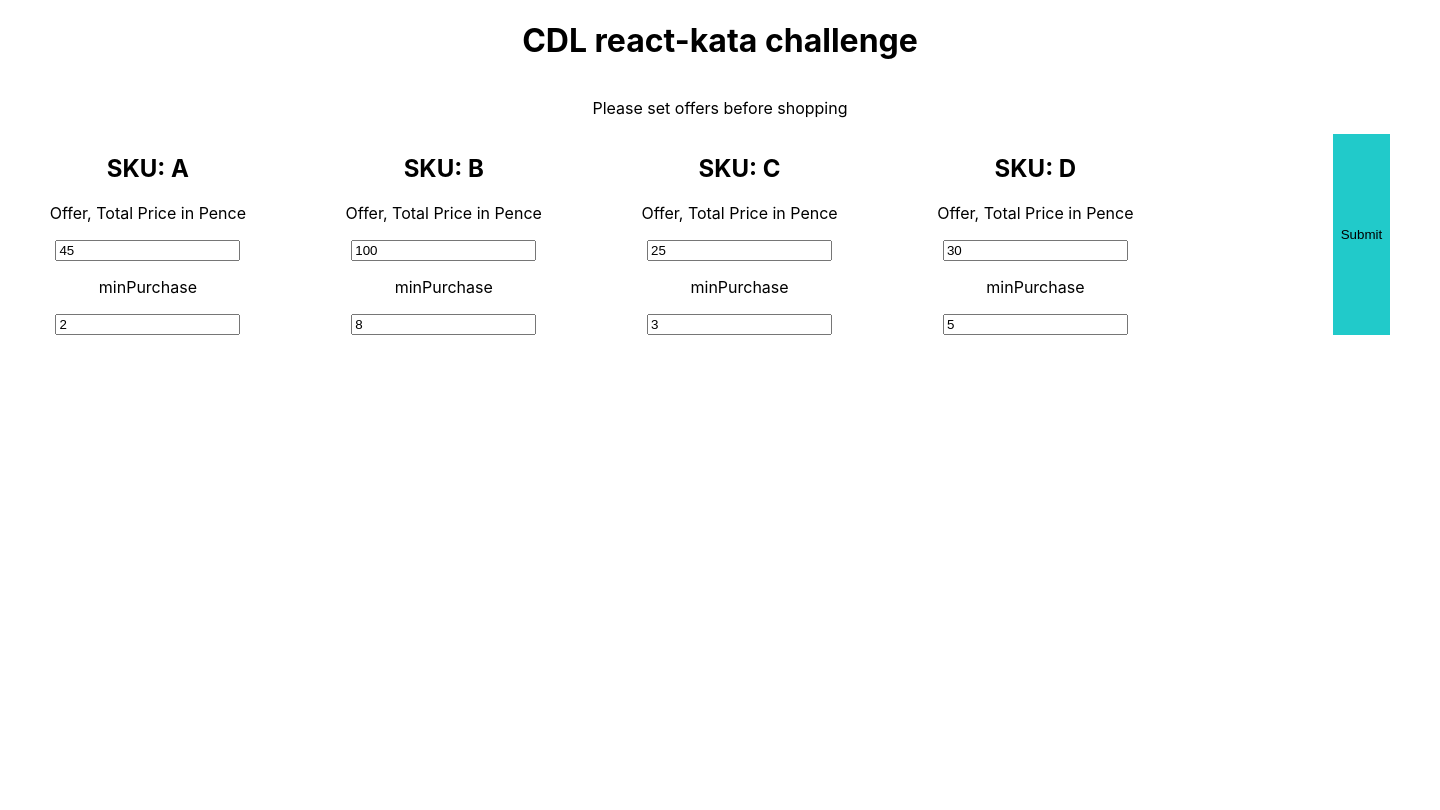
it: <App> › should set a new price for SKU A when price is changed and submit button pressed
This screenshot has width=1440, height=810.
// ** Act **
Replace the text in the number field named "A offer input" with "50" at (148, 250), box 55,240 -> 240,261
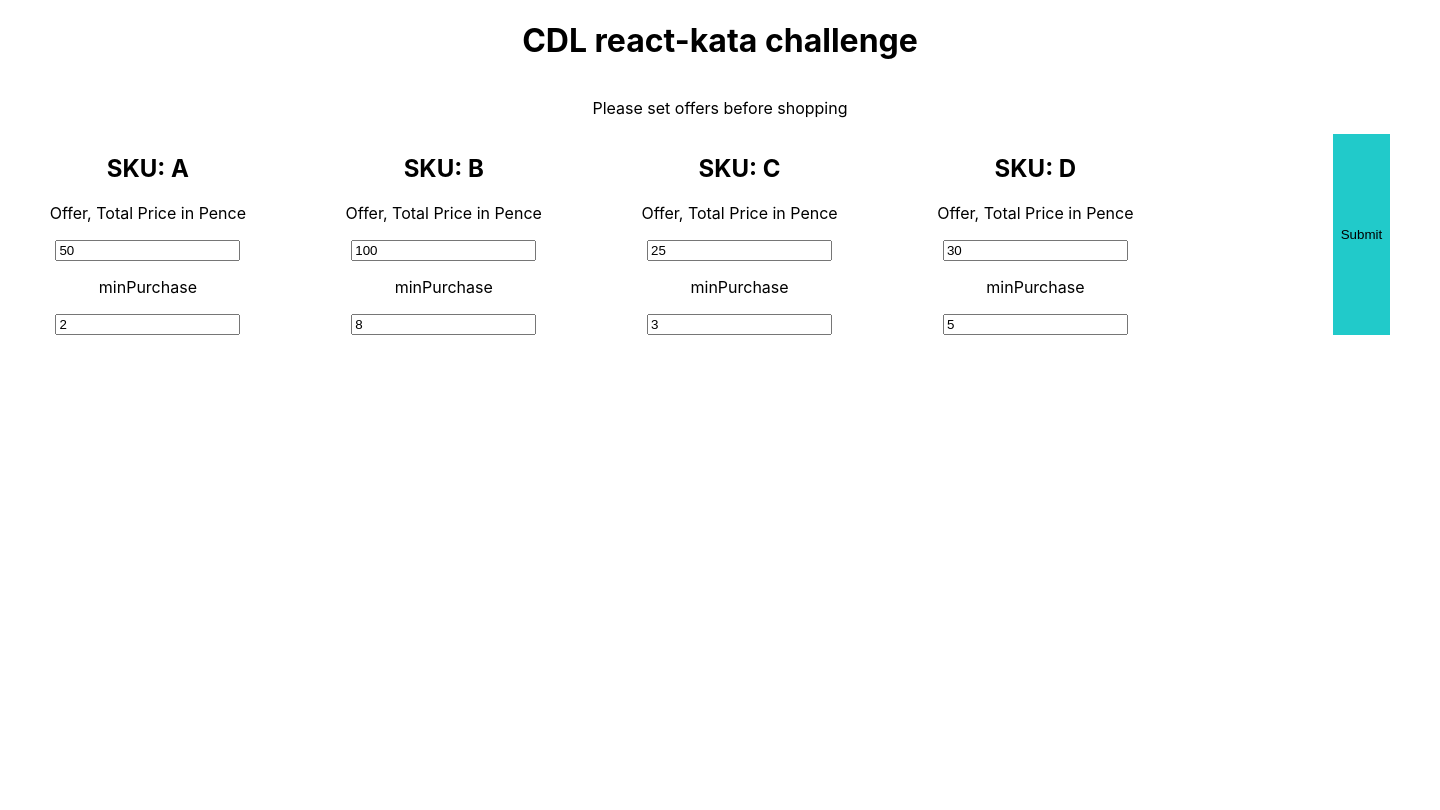
Click the button.
click(1361, 234)  # box 1333,134 -> 1390,335
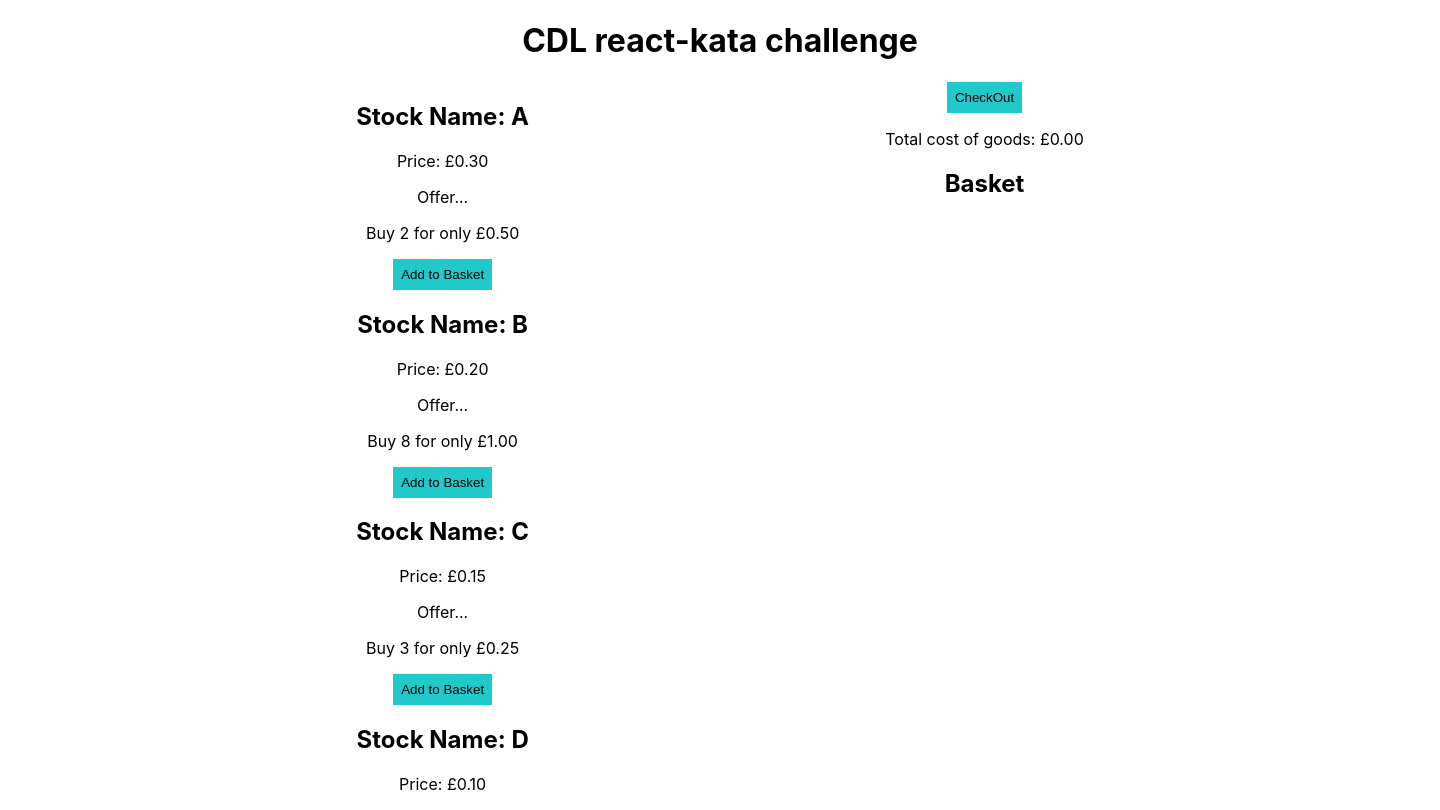
Now the text named "A offer" reads "Buy 2 for only £0.50", box 366,223 -> 519,243
